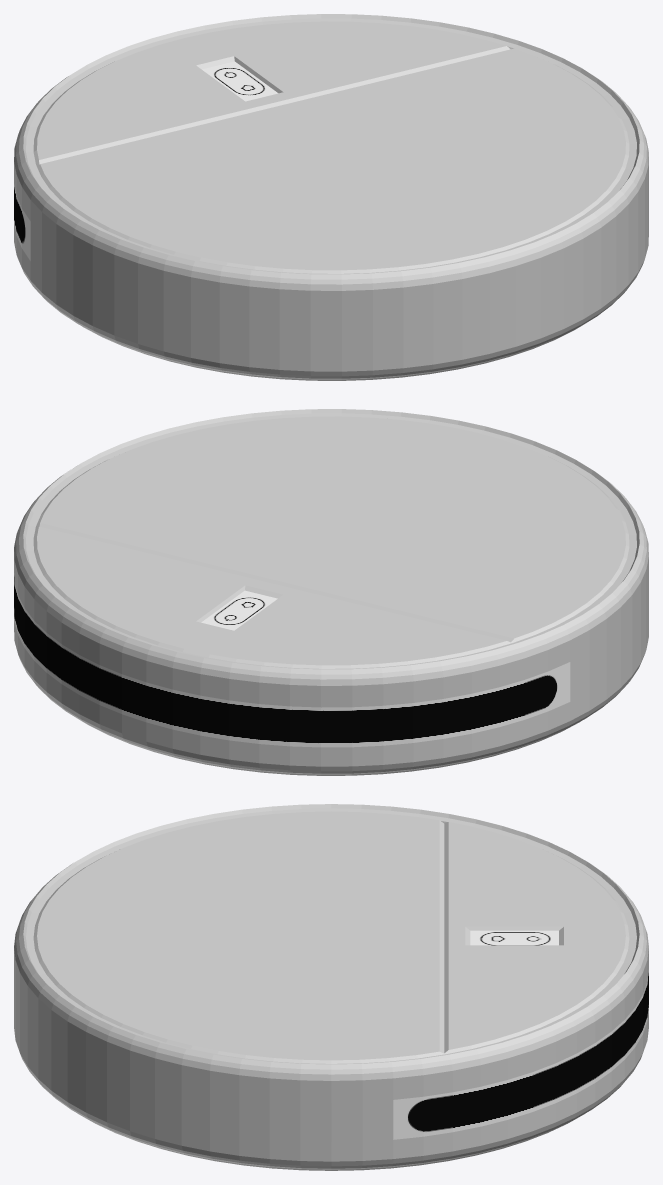
Rendered from robot_vacuum 1.fbx.
3 renders of one model, top to bottom at view 1: azimuth 30°, elevation 25°; view 2: azimuth 150°, elevation 25°; view 3: azimuth 270°, elevation 25°, orthographic.
Visible parts, largest first — view 1: Cylinder; view 2: Cylinder; view 3: Cylinder.
Boxes of the visible parts, x1=… form: Cylinder: x1=14, y1=14, x2=648, y2=380; Cylinder: x1=14, y1=409, x2=648, y2=775; Cylinder: x1=14, y1=804, x2=648, y2=1170.
Size of the model in its own units: 43.12 by 8.06 by 43.12.
